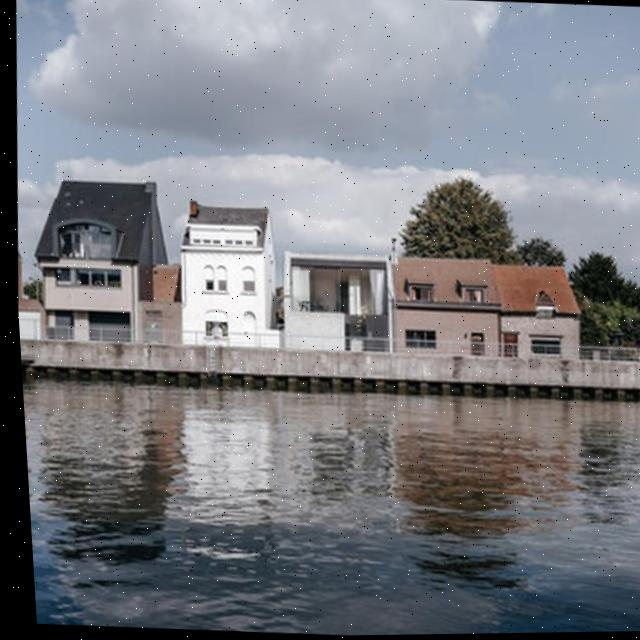building: (24, 166, 189, 350), (173, 195, 286, 354), (275, 242, 399, 362), (386, 244, 504, 367), (488, 256, 585, 359)
